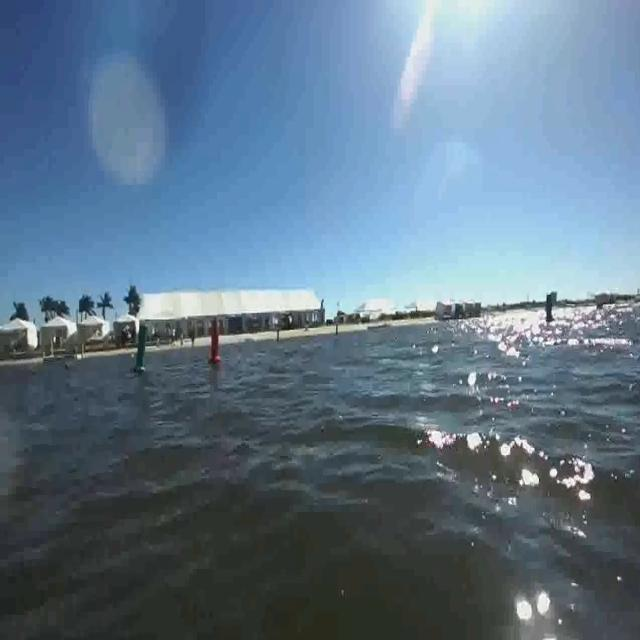green-column-buoy: (134, 323, 151, 373)
red-column-buoy: (208, 320, 223, 365)
